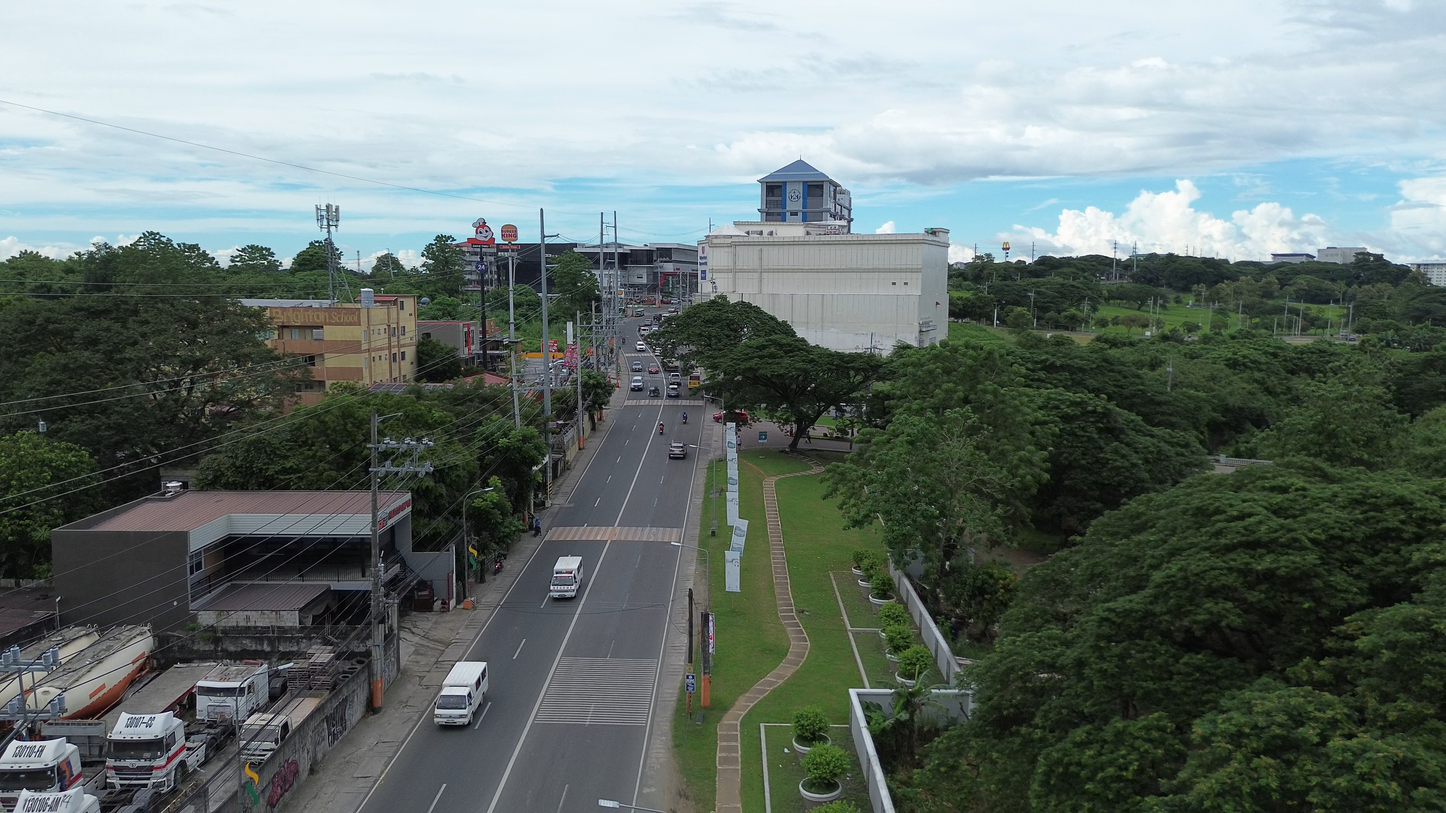car: (667, 385, 680, 397), (631, 360, 644, 372), (647, 364, 660, 374), (669, 371, 680, 382)
motorcycle: (658, 422, 664, 434), (681, 413, 687, 425)
truck: (105, 664, 231, 793)
vehicle: (27, 625, 154, 719), (106, 712, 207, 792), (238, 690, 326, 760), (0, 738, 82, 809), (196, 663, 269, 722), (434, 661, 488, 725), (20, 626, 100, 665), (13, 787, 101, 813), (549, 557, 583, 598), (712, 410, 750, 425), (668, 442, 686, 459), (630, 375, 644, 391), (666, 384, 680, 397), (631, 359, 644, 372), (668, 372, 681, 384), (635, 341, 647, 352), (648, 386, 660, 397), (632, 308, 644, 317)
